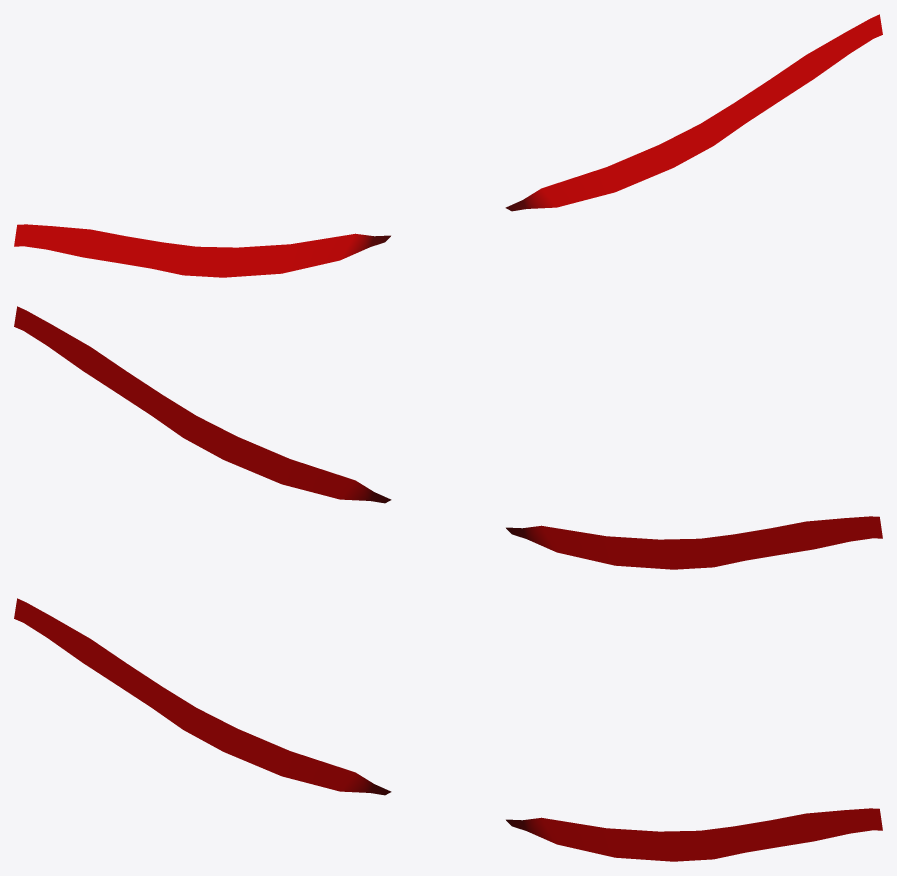
File: frame158.fbx
The picture shows the model from 3 angles, top to bottom: view 1: azimuth 30°, elevation 25°; view 2: azimuth 150°, elevation 25°; view 3: azimuth 330°, elevation 25°; orthographic projection.
Visible parts, largest first — view 1: MaterialLayer; view 2: MaterialLayer; view 3: MaterialLayer.
Part boxes in pixels (box(x1,y1,x2,y2)): MaterialLayer: box(14, 14, 882, 277); MaterialLayer: box(14, 306, 882, 569); MaterialLayer: box(14, 598, 882, 861).
Size of the model in its own units: 1493 by 188 by 0.
